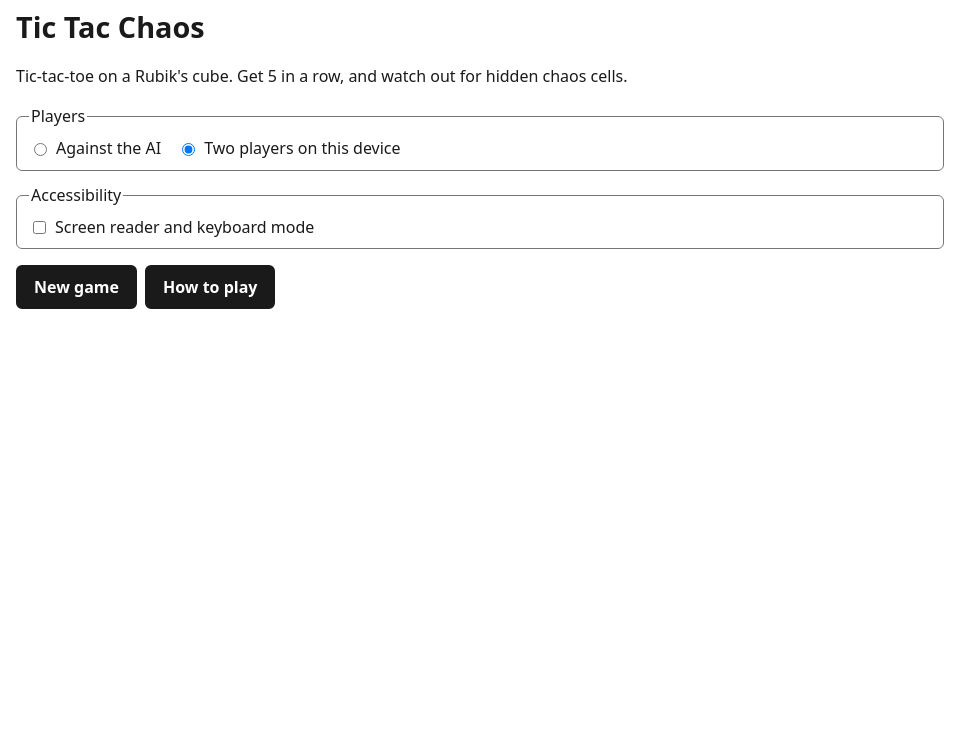
Test case: the 3D cube › replays the chaos turns of a new move, but not of the board it opened with
Click the button "New game": (76, 287) left=16, top=265, right=137, bottom=309
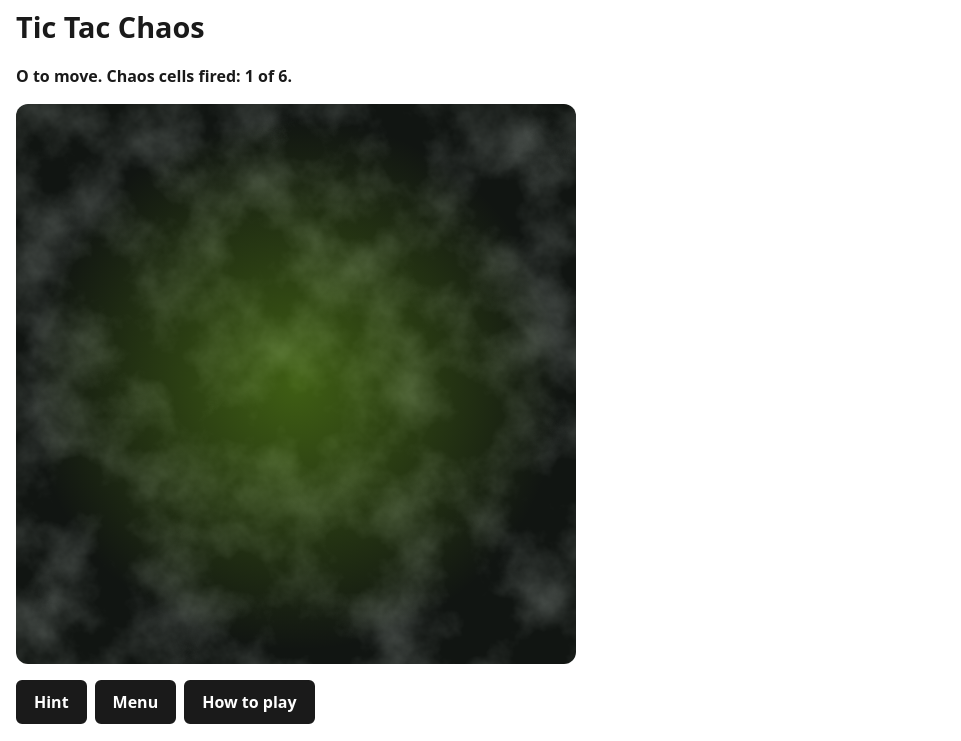
Check: the text "O to move. Chaos cells fired: 1 of 6." is shown, box left=16, top=65, right=292, bottom=87
